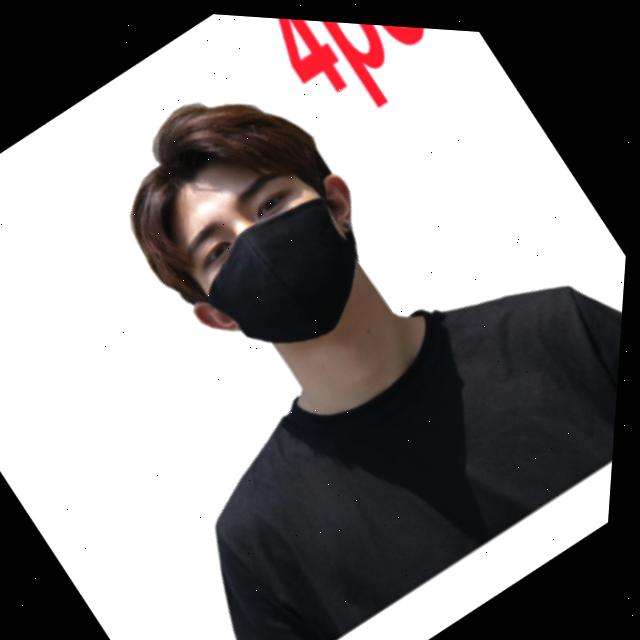Mask: (163, 150, 413, 385)
